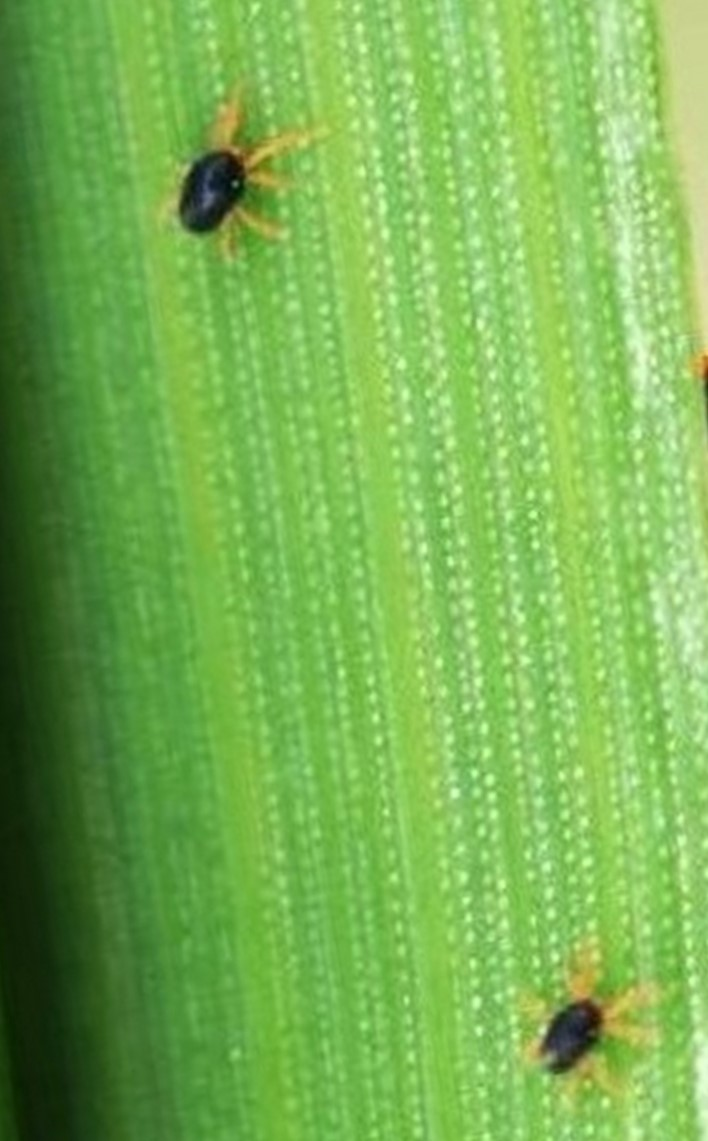Wheat Red Spider: (133, 77, 331, 293)
